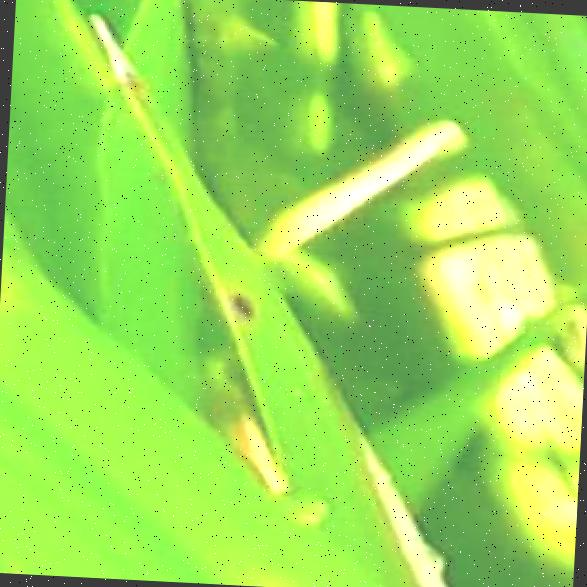Brown_Spot: (216, 278, 268, 328)
